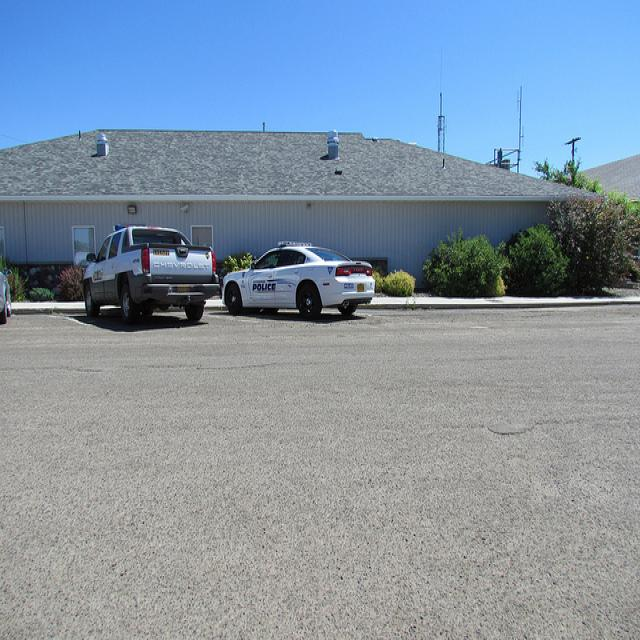Vehicle: (81, 219, 219, 323), (222, 244, 376, 319), (0, 268, 14, 324)
